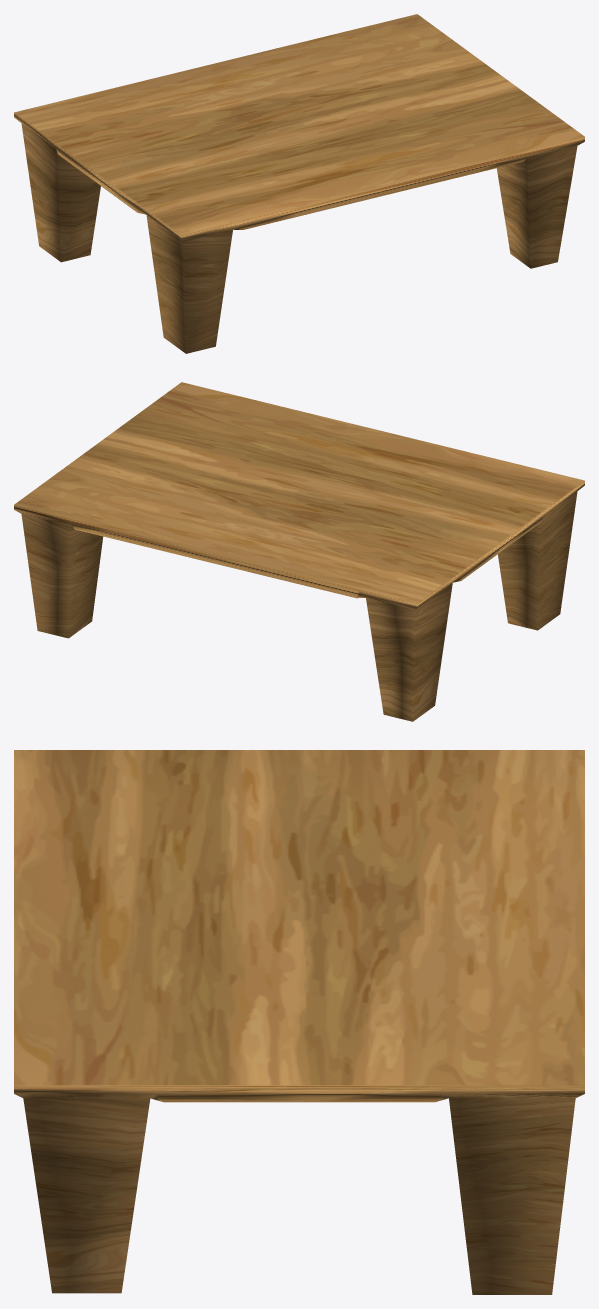
The model's file is Obj_vid_06_tauleta_menjador_low_poly.fbx.
The picture shows the model from 3 angles, top to bottom: view 1: azimuth 30°, elevation 25°; view 2: azimuth 150°, elevation 25°; view 3: azimuth 270°, elevation 25°; orthographic projection. The views are drawn at different scales.
Visible parts, largest first — view 1: Obj_vid_06_tauleta_menjador_low_poly; view 2: Obj_vid_06_tauleta_menjador_low_poly; view 3: Obj_vid_06_tauleta_menjador_low_poly.
Boxes of the visible parts, box(x1,y1,x2,y2) form: Obj_vid_06_tauleta_menjador_low_poly: box(14, 14, 584, 353); Obj_vid_06_tauleta_menjador_low_poly: box(14, 382, 584, 721); Obj_vid_06_tauleta_menjador_low_poly: box(14, 750, 584, 1294).
Bounding box in the file's own units: 1.17 × 0.3592 × 0.8408.
